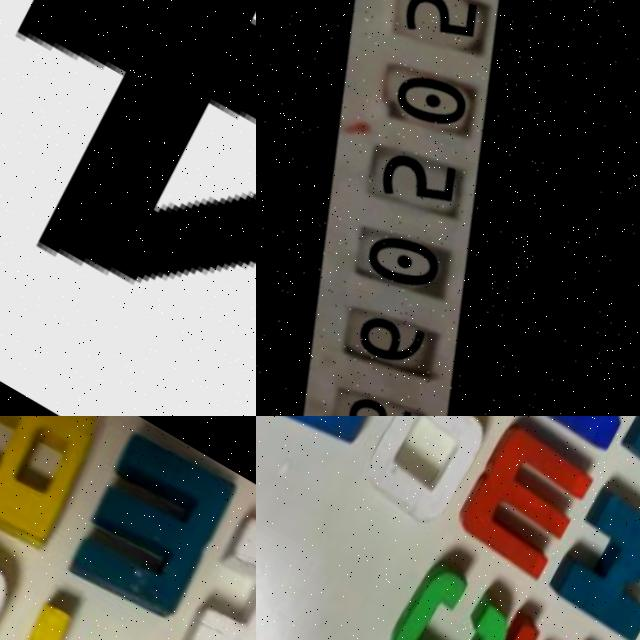0: (324, 200, 467, 328), (357, 41, 497, 167)
5: (343, 120, 482, 247), (368, 0, 507, 82)
6: (318, 286, 449, 404), (303, 367, 433, 416)
C: (355, 551, 521, 640)
E: (445, 605, 604, 640)
H: (165, 501, 256, 640)
K: (531, 473, 640, 639)
L: (0, 588, 158, 640)
M: (43, 416, 256, 638)
P: (256, 416, 410, 455)
Q: (332, 416, 500, 532)
R: (0, 416, 125, 556)
W: (432, 416, 597, 582)
